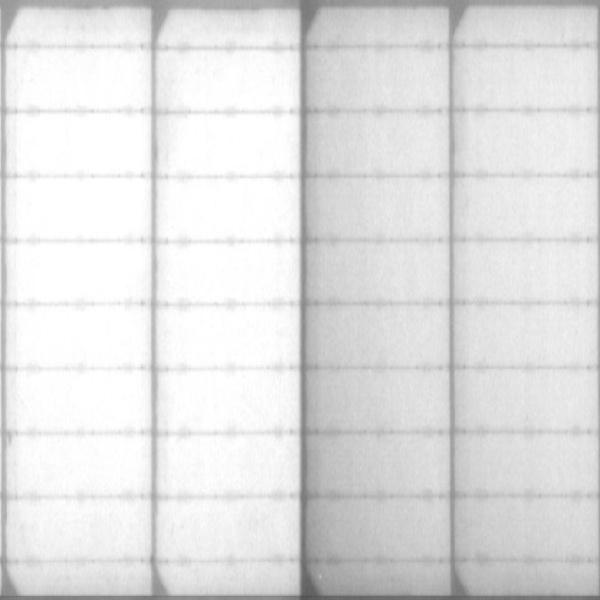hot_spot: (13, 437, 147, 493), (11, 503, 150, 554), (173, 374, 297, 429), (16, 376, 145, 428), (16, 246, 146, 296), (11, 310, 145, 358), (170, 312, 295, 362), (167, 183, 287, 235), (17, 182, 141, 232), (19, 117, 145, 166), (170, 506, 296, 554), (172, 123, 287, 174), (175, 247, 287, 296), (176, 444, 297, 488)
